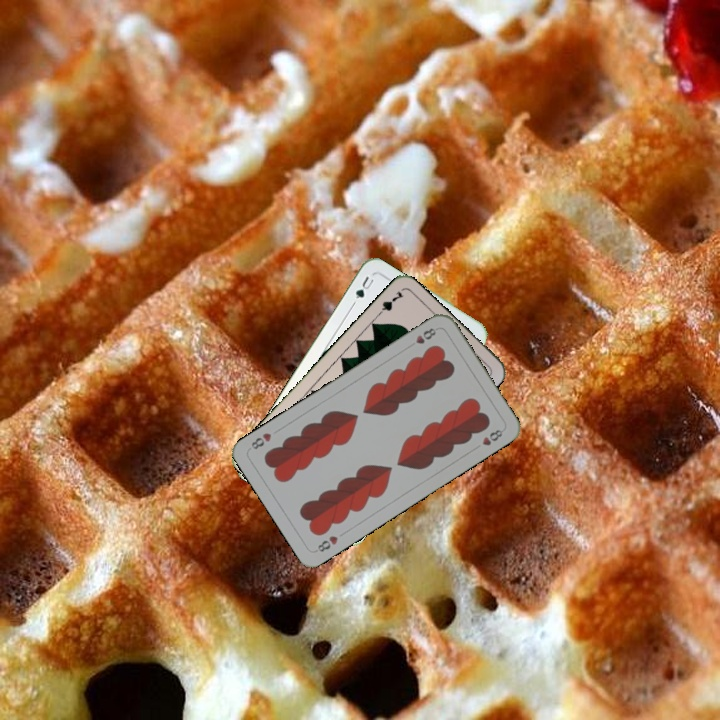G7: (372, 287, 406, 320)
GU: (349, 272, 376, 307)
H8: (311, 531, 341, 555), (411, 324, 439, 347)
